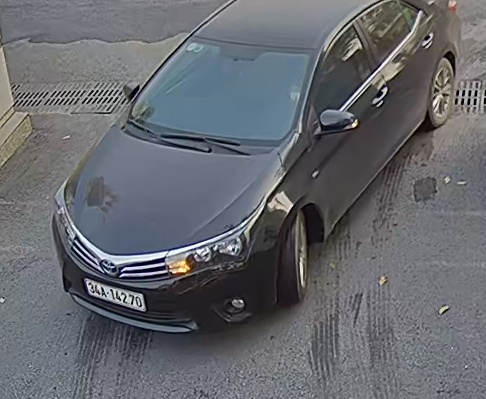vehicle plate: (79, 274, 148, 312)
